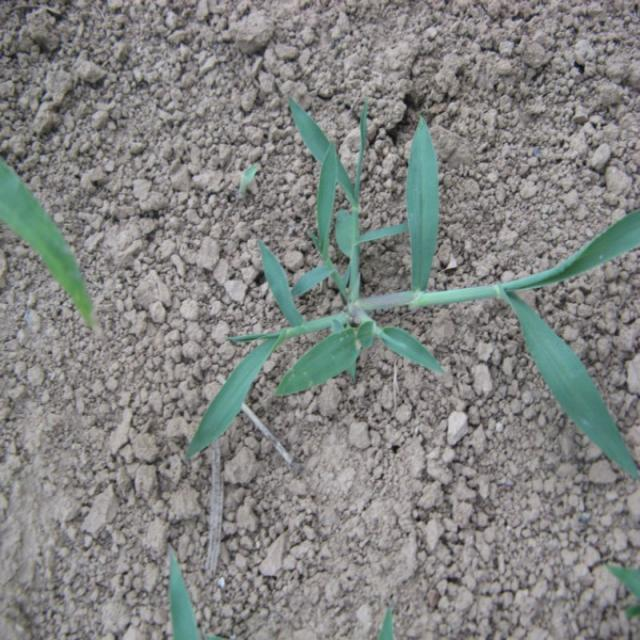bg: (179, 95, 640, 480)
